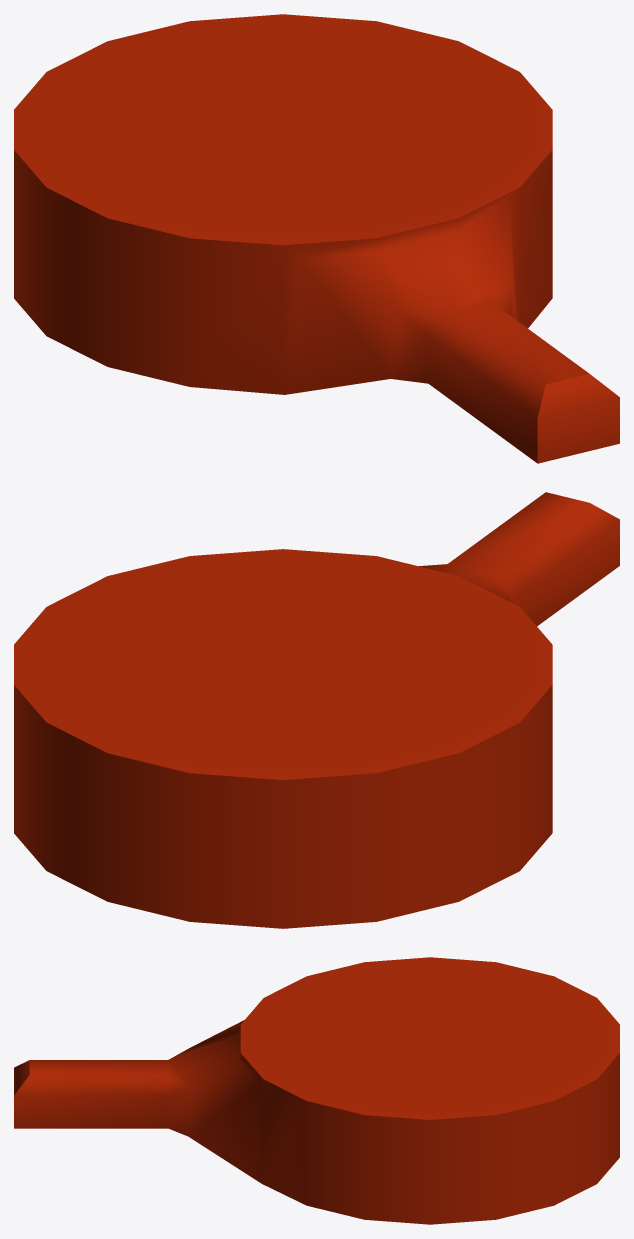
File: Manometr_LOD0.FBX
3 views of the same model, one above another, from view 1: azimuth 30°, elevation 25°; view 2: azimuth 150°, elevation 25°; view 3: azimuth 270°, elevation 25° (orthographic). The views are drawn at different scales.
Visible parts, largest first — view 1: Manometr_LOD0; view 2: Manometr_LOD0; view 3: Manometr_LOD0.
Part boxes in pixels (bbox=[...]): Manometr_LOD0: bbox=[14, 14, 619, 463]; Manometr_LOD0: bbox=[14, 492, 619, 928]; Manometr_LOD0: bbox=[14, 957, 619, 1224].
Size of the model in its own units: 10 by 3.01 by 15.74.
